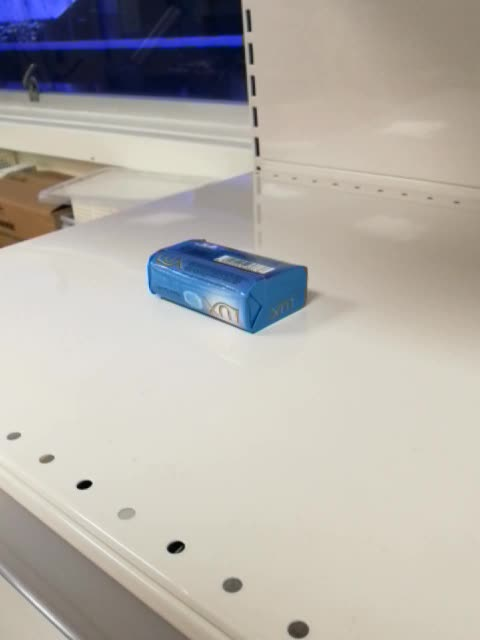soap: (145, 238, 310, 335)
